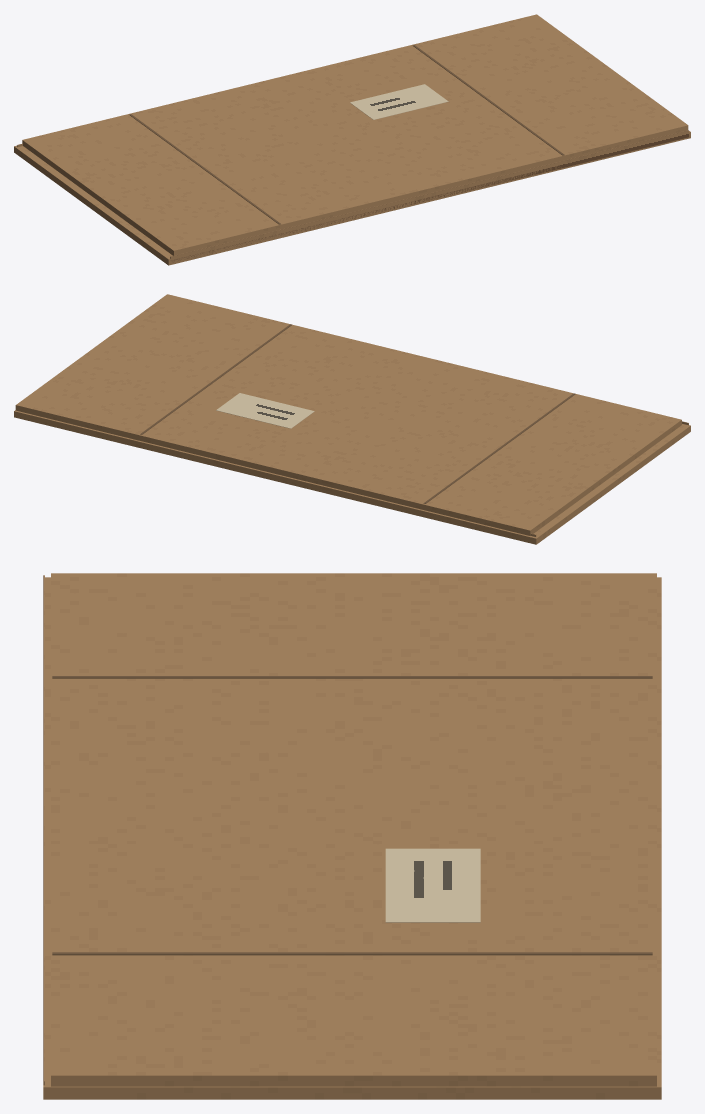
File: box_medium_folded.glb
3 views of the same model, one above another, from view 1: azimuth 30°, elevation 25°; view 2: azimuth 150°, elevation 25°; view 3: azimuth 270°, elevation 25° (orthographic). The views are drawn at different scales.
Visible parts, largest first — view 1: block_top folded blank, block_bottom folded blank, block_corrugated edge 0.204, block_shipping sticker, block_score 0.207, block_score -0.227; view 2: block_top folded blank, block_bottom folded blank, block_shipping sticker, block_score -0.227, block_score 0.207; view 3: block_top folded blank, block_bottom folded blank, block_shipping sticker, block_score 0.207, block_score -0.227, block_corrugated edge 0.204.
Boxes of the visible parts, x1,y1,x2,y2 form: block_top folded blank: (22,14,688,255); block_bottom folded blank: (14,131,690,265); block_corrugated edge 0.204: (170,130,688,262); block_shipping sticker: (350,84,448,119); block_score 0.207: (412,45,564,155); block_score -0.227: (129,114,280,224); block_top folded blank: (15,294,681,535); block_bottom folded blank: (14,410,690,544); block_shipping sticker: (216,393,314,428); block_score -0.227: (423,393,575,503); block_score 0.207: (140,324,291,434); block_top folded blank: (51,573,656,1086); block_bottom folded blank: (43,577,661,1099); block_shipping sticker: (385,848,480,922); block_score 0.207: (52,952,652,955); block_score -0.227: (52,676,652,678); block_corrugated edge 0.204: (43,575,44,1085).
Bounding box in the file's own units: 0.8 × 0.0179 × 0.41.
Materials: 1 (1 with a texture image).
